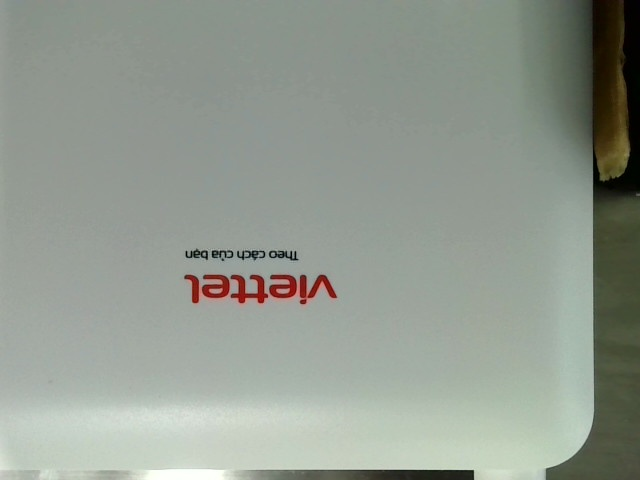AY_Viettel: (169, 243, 340, 306)
